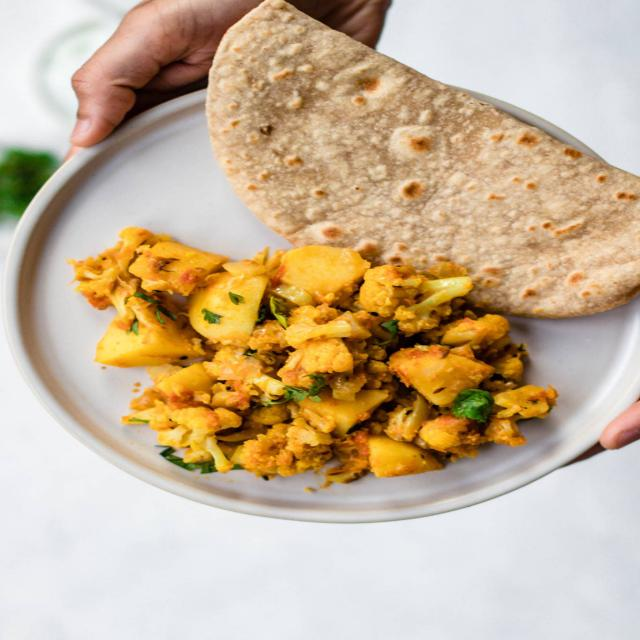Aloo Gobi: (70, 234, 540, 486)
